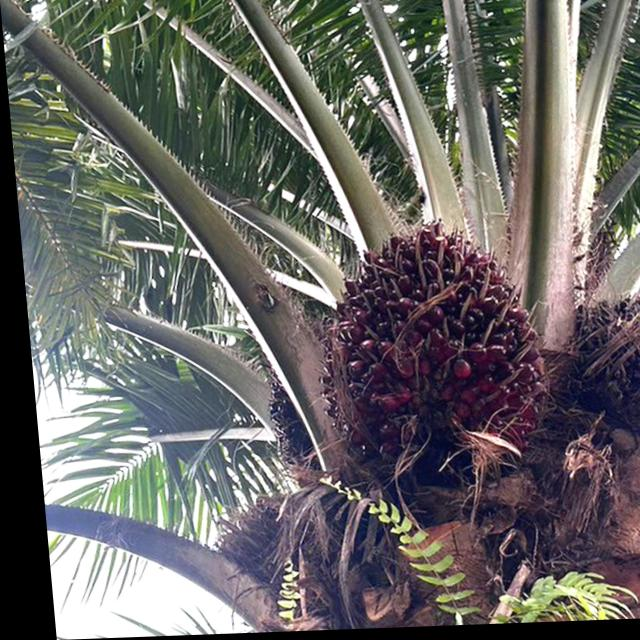ripe: (303, 213, 544, 456), (553, 286, 640, 428)
